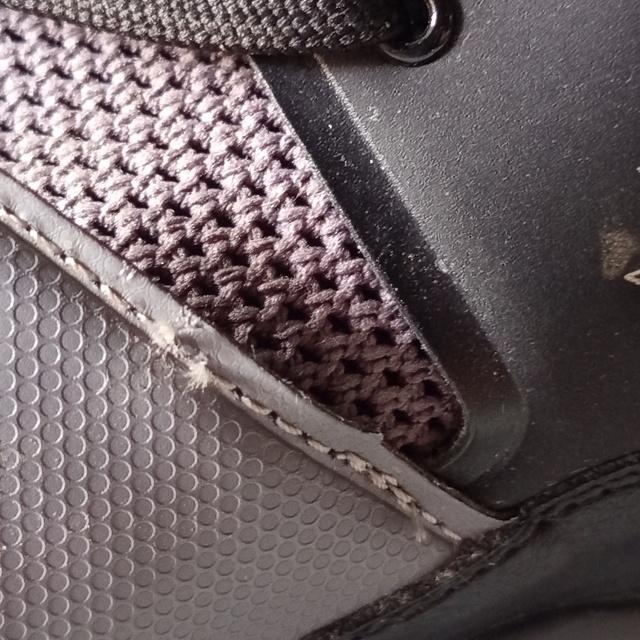broken-error: (147, 317, 216, 397)
